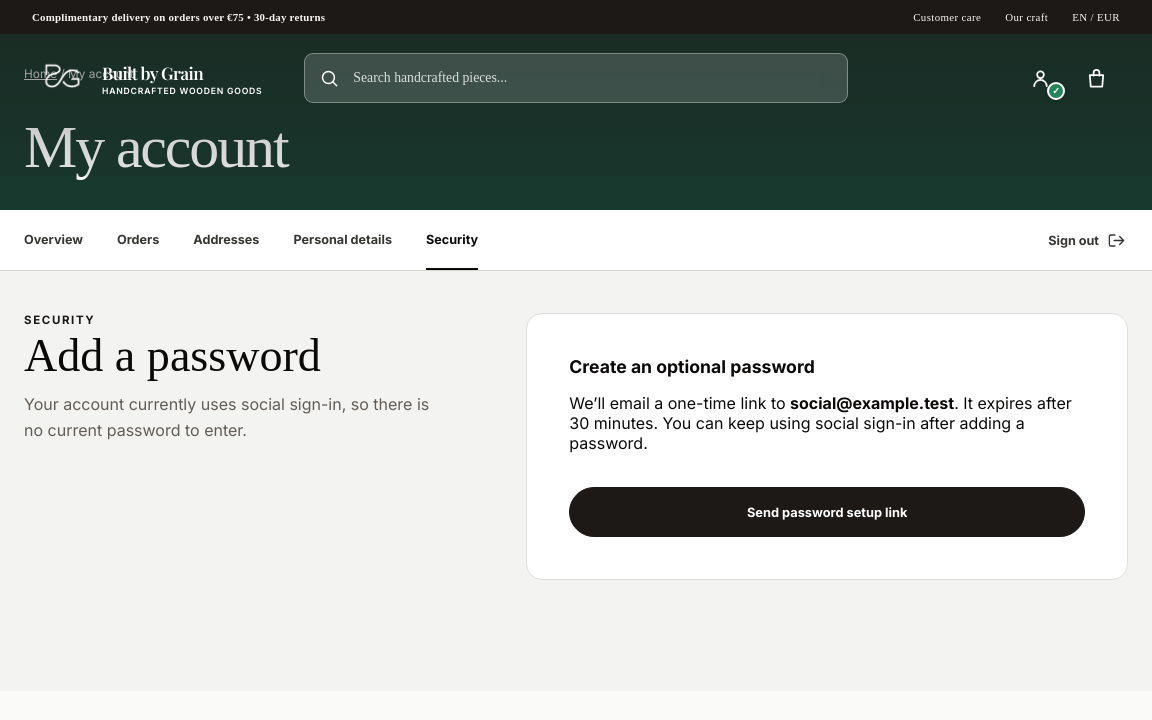
Scenario: AccountComponent security › offers a verified email setup flow when a social-only account has no password
Click the button "Send password setup link": (827, 512) [569,487,1085,537]
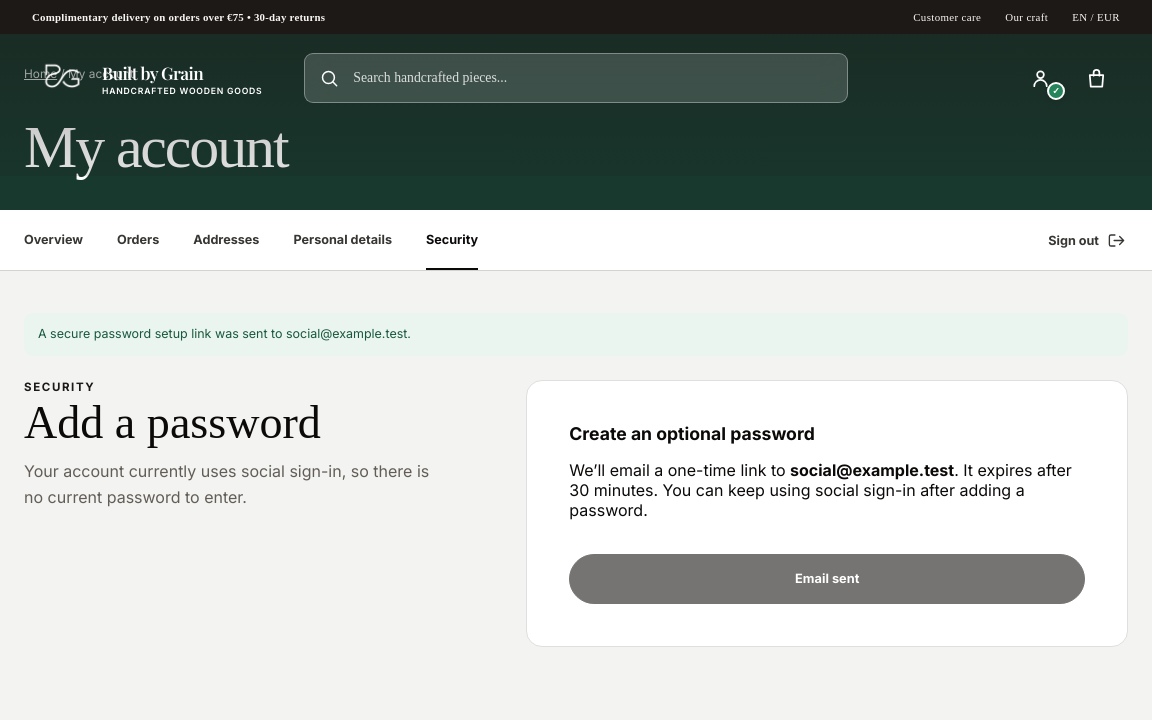
Now the message with class "success" shows "A secure password setup link was sent", box [38,326,411,341]
